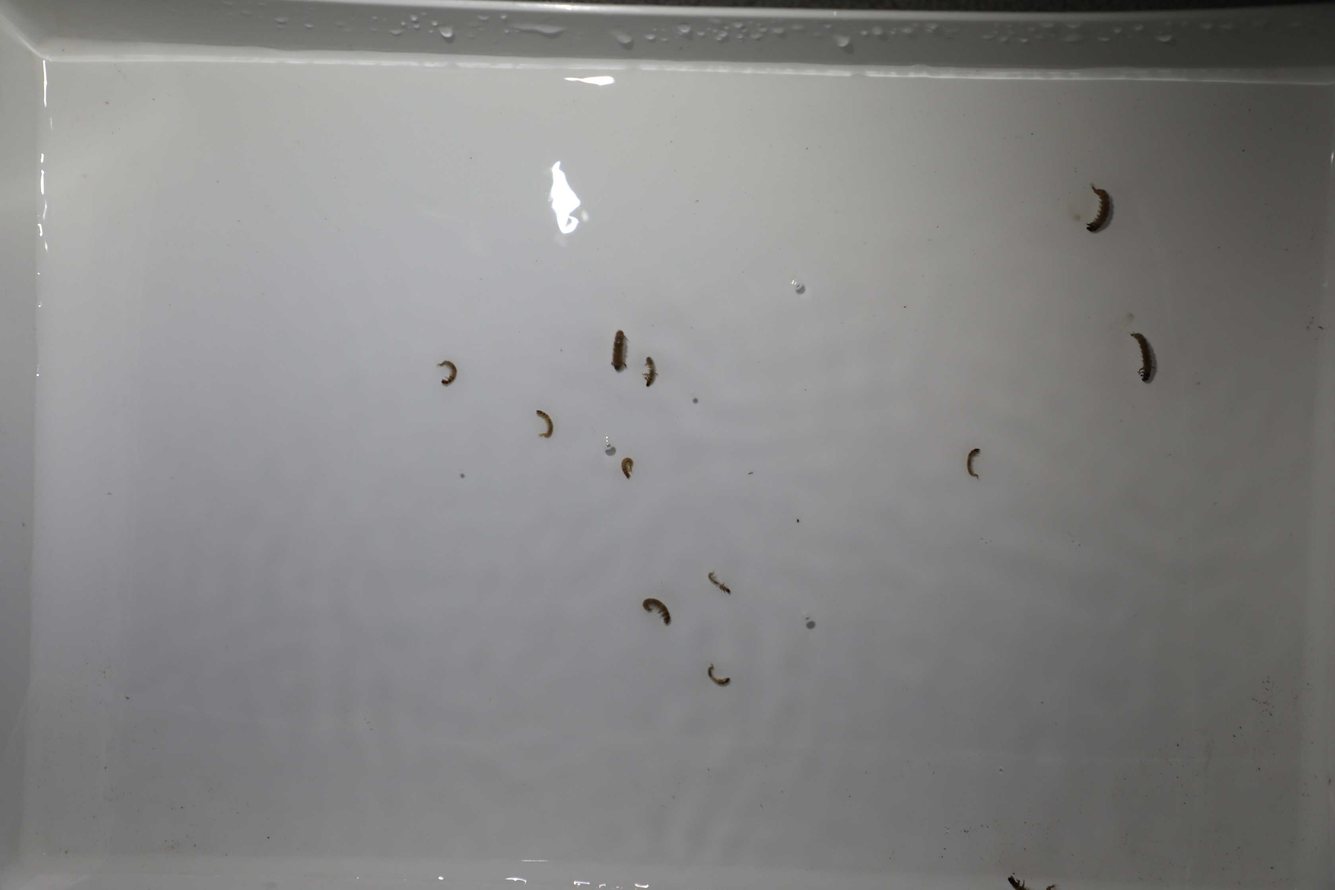Cadisfly: (1128, 327, 1161, 390), (1083, 180, 1115, 236), (606, 325, 631, 373), (530, 406, 558, 441), (642, 598, 675, 627), (429, 357, 459, 388), (958, 446, 984, 481), (639, 352, 660, 391), (1006, 875, 1060, 890), (705, 570, 733, 598), (707, 664, 735, 689), (621, 456, 637, 482)
